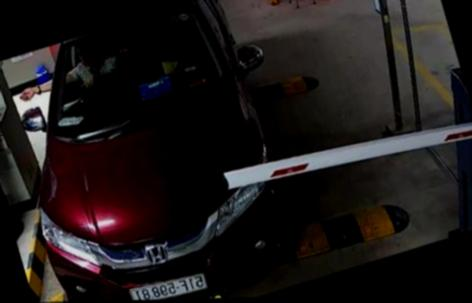License_Plate: (123, 270, 210, 299)
